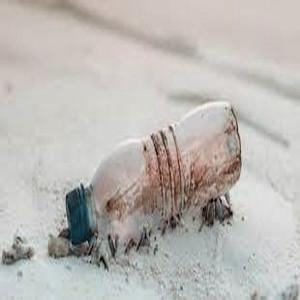Plastic: (66, 102, 242, 246)
